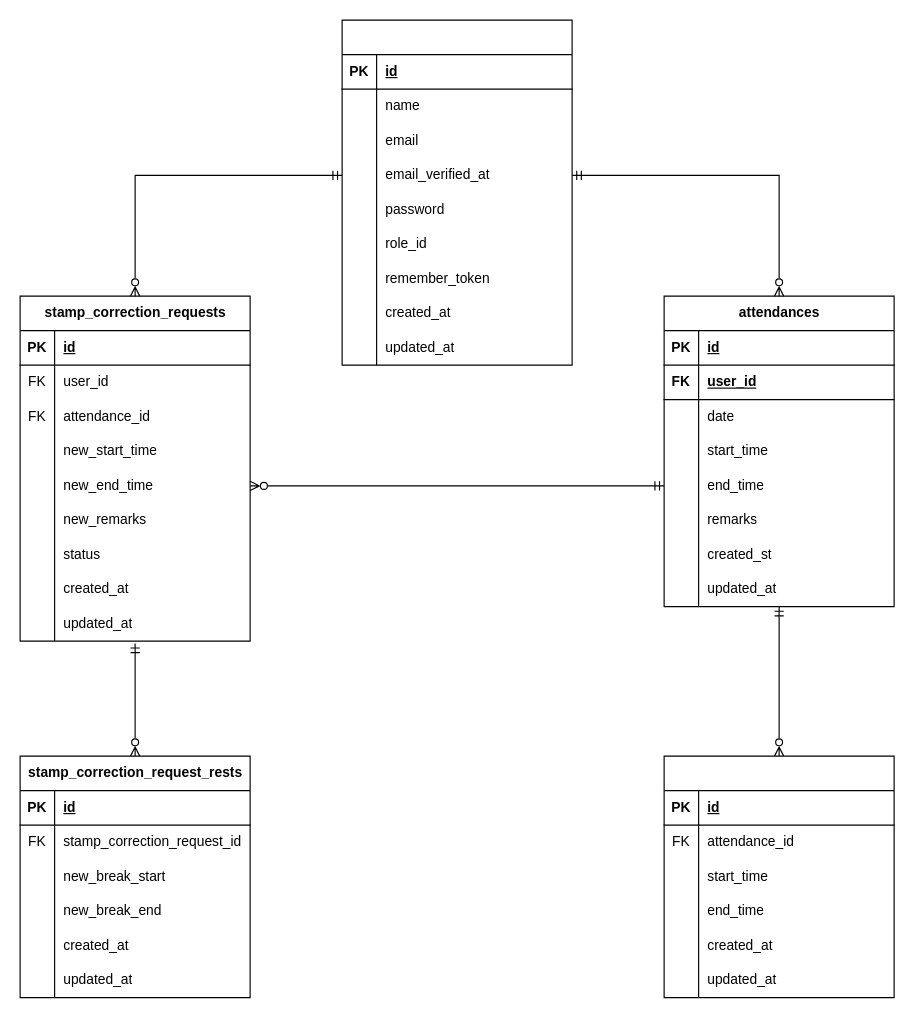
This 914x1018 diagram has some shape labels left out. The box of each missing label's shape, as (x1, y1, x2, y2) in pixels:
reats: (663, 755, 894, 998)
users: (341, 19, 572, 365)
